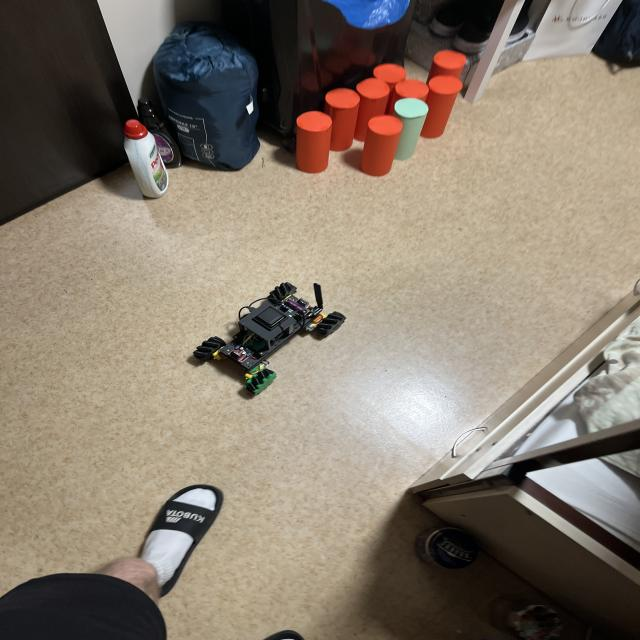robot: (193, 282, 346, 394)
